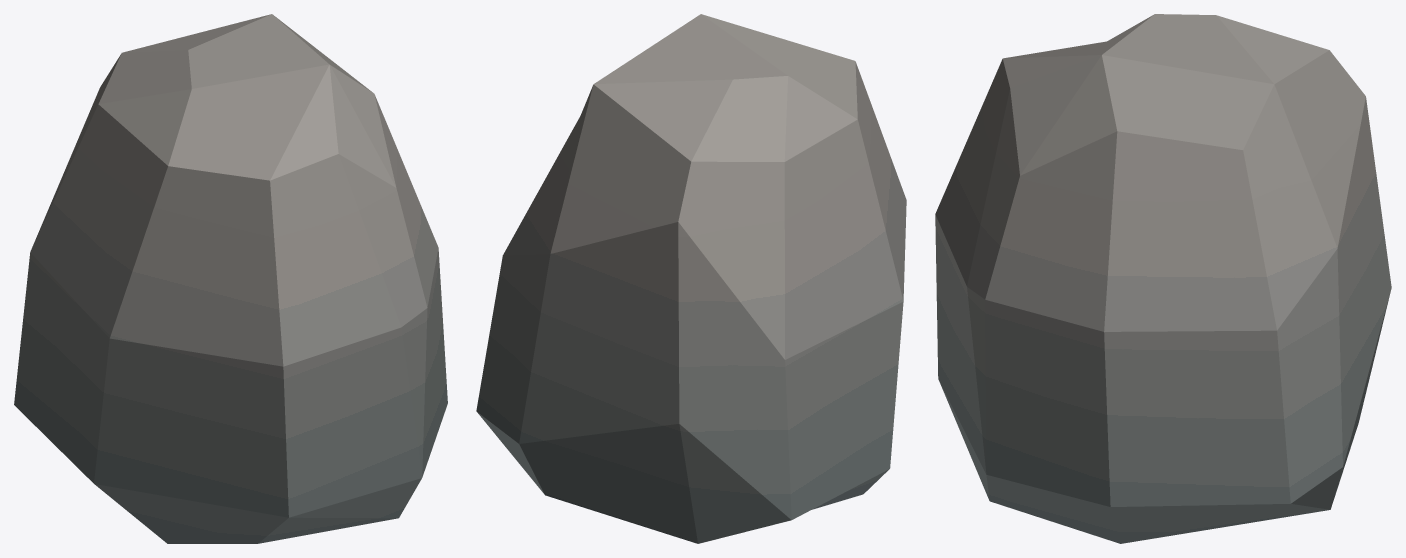
Rendered from Rock_002.fbx.
3 renders of one model, left to right at view 1: azimuth 30°, elevation 25°; view 2: azimuth 150°, elevation 25°; view 3: azimuth 270°, elevation 25°, orthographic. The views are drawn at different scales.
Visible parts, largest first — view 1: Rock.002; view 2: Rock.002; view 3: Rock.002.
Boxes of the visible parts, x1,y1,x2,y2 form: Rock.002: [14, 14, 447, 543]; Rock.002: [476, 14, 906, 543]; Rock.002: [935, 14, 1391, 543].
Bounding box in the file's own units: 1.55 × 1.88 × 1.69.
